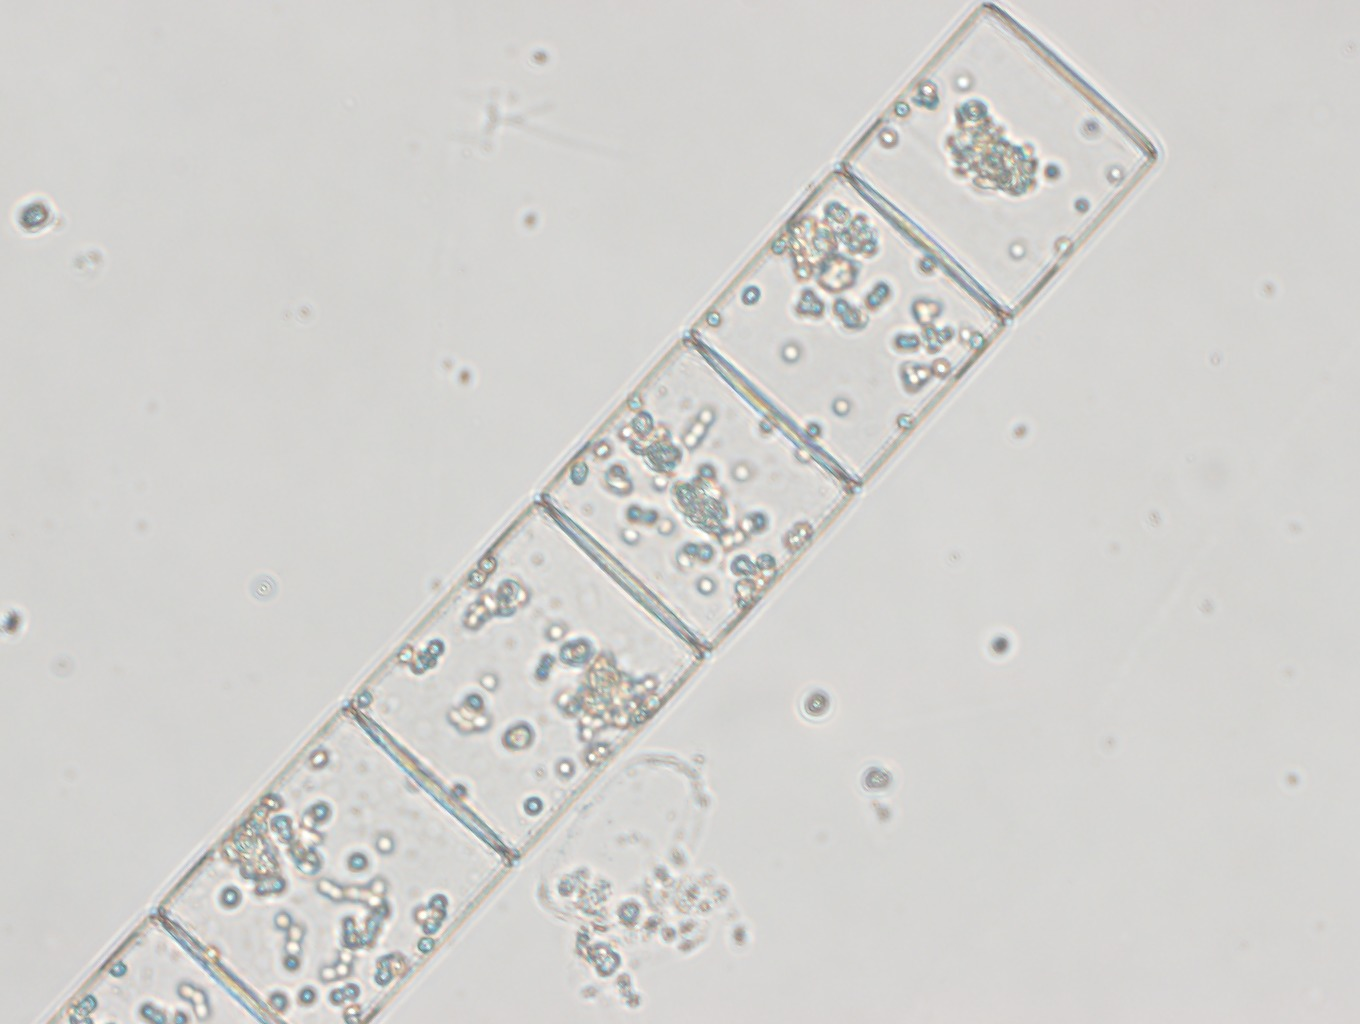guinardia flaccida: (47, 1, 1158, 1024)
